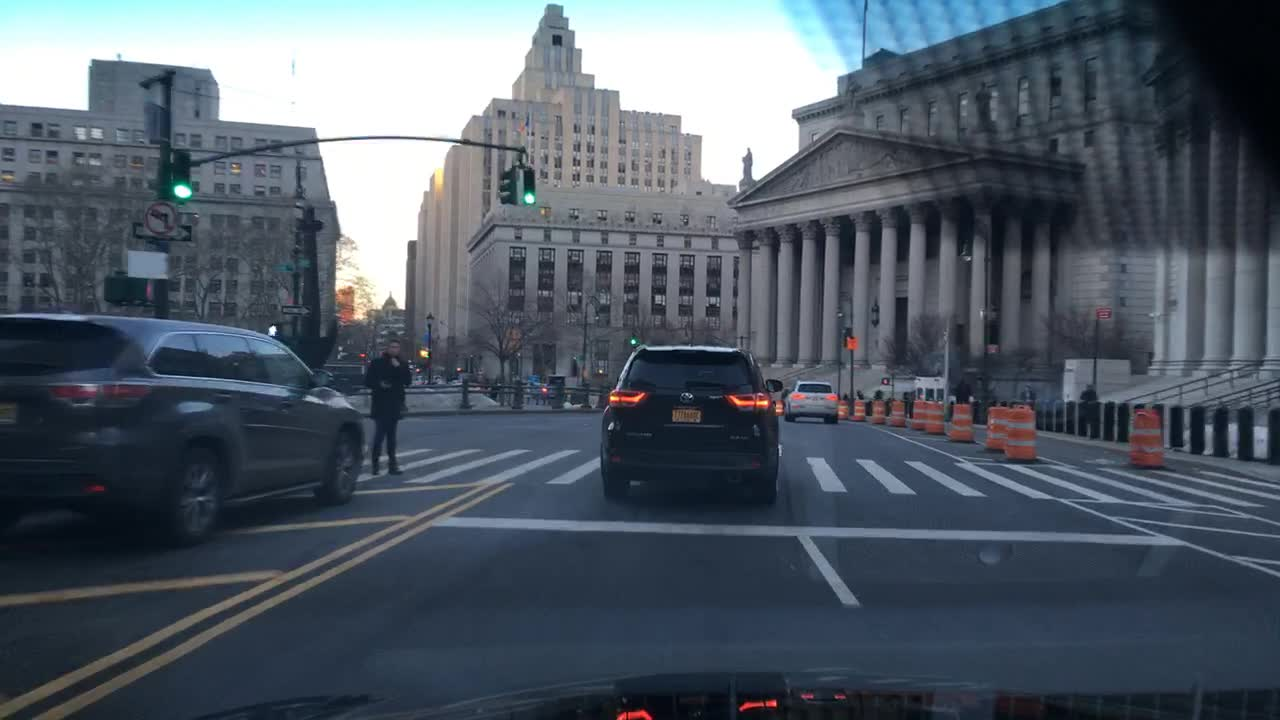car: (1, 304, 365, 547), (596, 345, 782, 507), (785, 380, 845, 424)
person: (362, 337, 412, 473), (1079, 382, 1099, 432), (952, 373, 973, 415), (1018, 381, 1038, 416)
traffic light: (171, 148, 193, 201), (495, 163, 515, 205), (517, 162, 534, 209), (263, 323, 281, 335), (626, 326, 638, 343), (879, 373, 891, 390)
traffic sign: (124, 250, 172, 280), (131, 220, 193, 242), (141, 201, 180, 234), (275, 304, 314, 315), (177, 211, 199, 224), (1095, 303, 1111, 318), (844, 333, 858, 349), (276, 259, 294, 270), (296, 258, 312, 270), (985, 340, 1001, 351)
